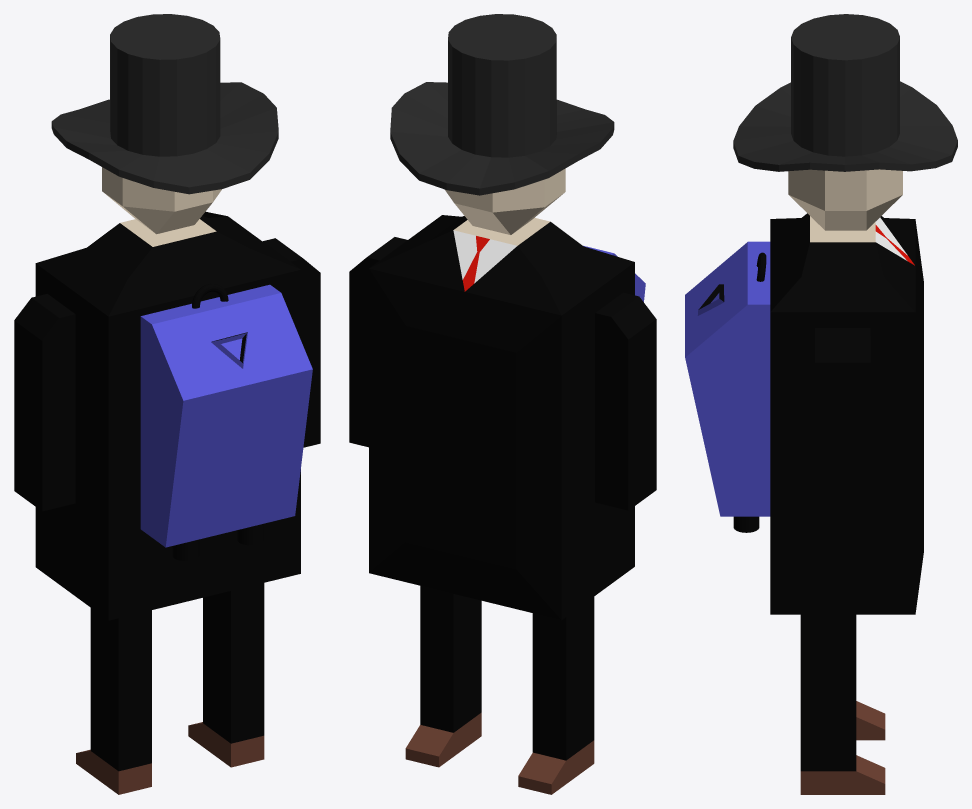
The model's file is bgboi.fbx.
The picture shows the model from 3 angles, left to right: view 1: azimuth 30°, elevation 25°; view 2: azimuth 150°, elevation 25°; view 3: azimuth 270°, elevation 25°; orthographic projection.
Visible parts, largest first — view 1: Cube.001, hat; view 2: Cube.001, hat; view 3: Cube.001, hat.
Part boxes in pixels (left/top/right/bottom): Cube.001: left=14, top=167, right=320, bottom=794; hat: left=51, top=14, right=278, bottom=194; Cube.001: left=349, top=168, right=656, bottom=794; hat: left=390, top=14, right=614, bottom=195; Cube.001: left=685, top=169, right=923, bottom=794; hat: left=733, top=14, right=957, bottom=171.
Size of the model in its own units: 153 by 380 by 131.
